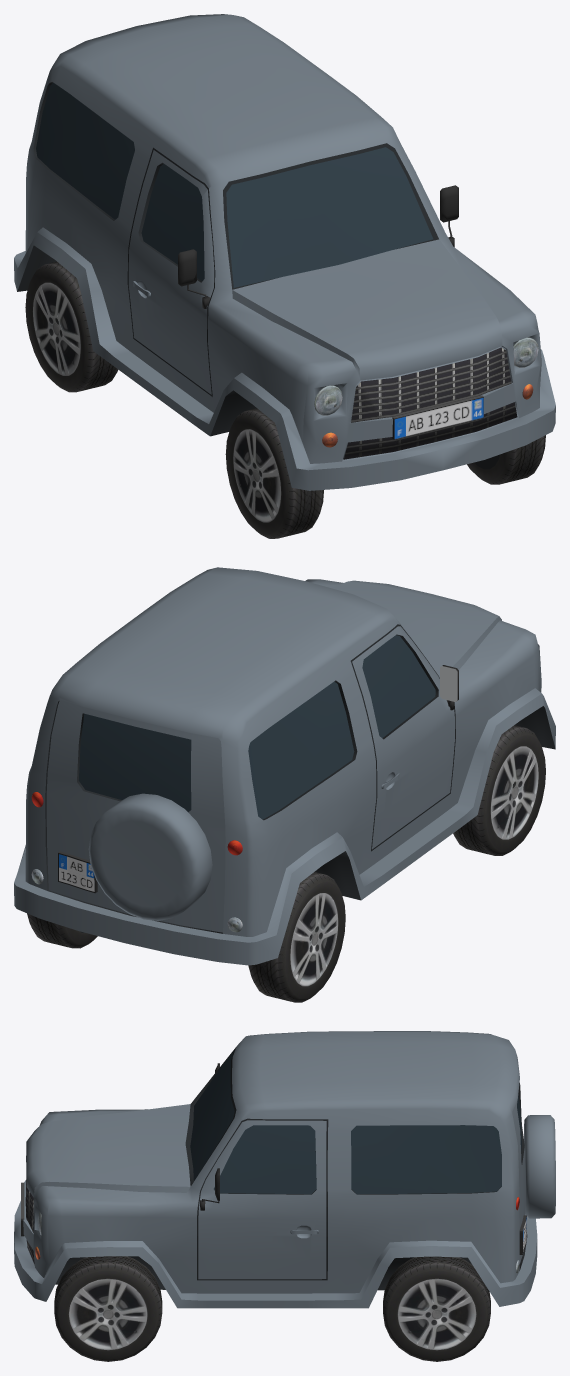
File: offroad.glb
3 views of the same model, one above another, from view 1: azimuth 30°, elevation 25°; view 2: azimuth 150°, elevation 25°; view 3: azimuth 270°, elevation 25° (orthographic). The views are drawn at different scales.
Parts seen in each view (by area): view 1: paint-Body-body, glass-Glass-body, paint-LowBodyArch-body, trim-AirGrid-body, rubber-Tires-(False, False), rubber-Tires-(False, True), alloy-Rim-(False, False), alloy-Rim-(False, True), rubber-BlackRubber-body, trim-LicensePlate-body, rubber-Tires-(True, False), trim-Lights-body (+3 smaller); view 2: paint-Body-body, glass-Glass-body, paint-LowBodyArch-body, rubber-Tires-(False, True), rubber-Tires-(False, False), alloy-Rim-(False, True), alloy-Rim-(False, False), rubber-BlackRubber-body, rubber-WheelArch-body, rubber-Tires-(True, True), trim-LicensePlate-body, rubber-Lines-body (+2 smaller); view 3: paint-Body-body, glass-Glass-body, paint-LowBodyArch-body, rubber-Tires-(True, False), rubber-Tires-(True, True), alloy-Rim-(True, False), alloy-Rim-(True, True), rubber-BlackRubber-body, rubber-Lines-body, rubber-WheelArch-body, trim-LicensePlate-body.
Part boxes in pixels (x1,y1,x2,y2): paint-Body-body: [25, 14, 541, 463]; glass-Glass-body: [36, 83, 433, 287]; paint-LowBodyArch-body: [14, 227, 555, 490]; trim-AirGrid-body: [344, 347, 517, 459]; rubber-Tires-(False, False): [225, 408, 323, 538]; rubber-Tires-(False, True): [25, 261, 118, 392]; alloy-Rim-(False, False): [233, 429, 281, 522]; alloy-Rim-(False, True): [32, 282, 80, 375]; rubber-BlackRubber-body: [33, 82, 438, 289]; trim-LicensePlate-body: [392, 395, 483, 439]; rubber-Tires-(True, False): [467, 435, 545, 484]; trim-Lights-body: [314, 337, 538, 447]; paint-Body-body: [25, 567, 541, 936]; glass-Glass-body: [78, 635, 435, 819]; paint-LowBodyArch-body: [14, 688, 555, 965]; rubber-Tires-(False, True): [248, 872, 345, 1002]; rubber-Tires-(False, False): [453, 725, 545, 855]; alloy-Rim-(False, True): [290, 893, 338, 986]; alloy-Rim-(False, False): [490, 746, 538, 839]; rubber-BlackRubber-body: [45, 634, 438, 933]; rubber-WheelArch-body: [314, 706, 555, 900]; rubber-Tires-(True, True): [27, 913, 97, 948]; trim-LicensePlate-body: [58, 851, 97, 893]; rubber-Lines-body: [350, 624, 455, 851]; paint-Body-body: [23, 1031, 555, 1293]; glass-Glass-body: [190, 1050, 521, 1194]; paint-LowBodyArch-body: [14, 1201, 537, 1308]; rubber-Tires-(True, False): [54, 1256, 162, 1361]; rubber-Tires-(True, True): [383, 1256, 490, 1361]; alloy-Rim-(True, False): [68, 1278, 147, 1350]; alloy-Rim-(True, True): [397, 1278, 476, 1350]; rubber-BlackRubber-body: [185, 1047, 527, 1270]; rubber-Lines-body: [197, 1118, 328, 1280]; rubber-WheelArch-body: [55, 1256, 472, 1290]; trim-LicensePlate-body: [21, 1182, 526, 1254].
Bounding box in the file's own units: 1.86 × 1.94 × 3.82.
16 materials, 5 textured.
